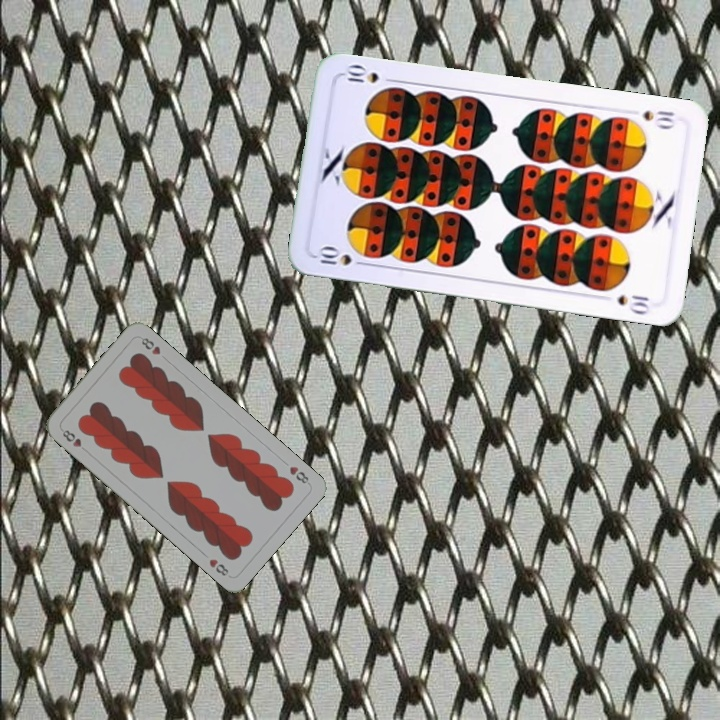H8: (285, 462, 313, 487), (58, 425, 84, 450)
S10: (316, 244, 370, 269), (639, 105, 677, 131)
